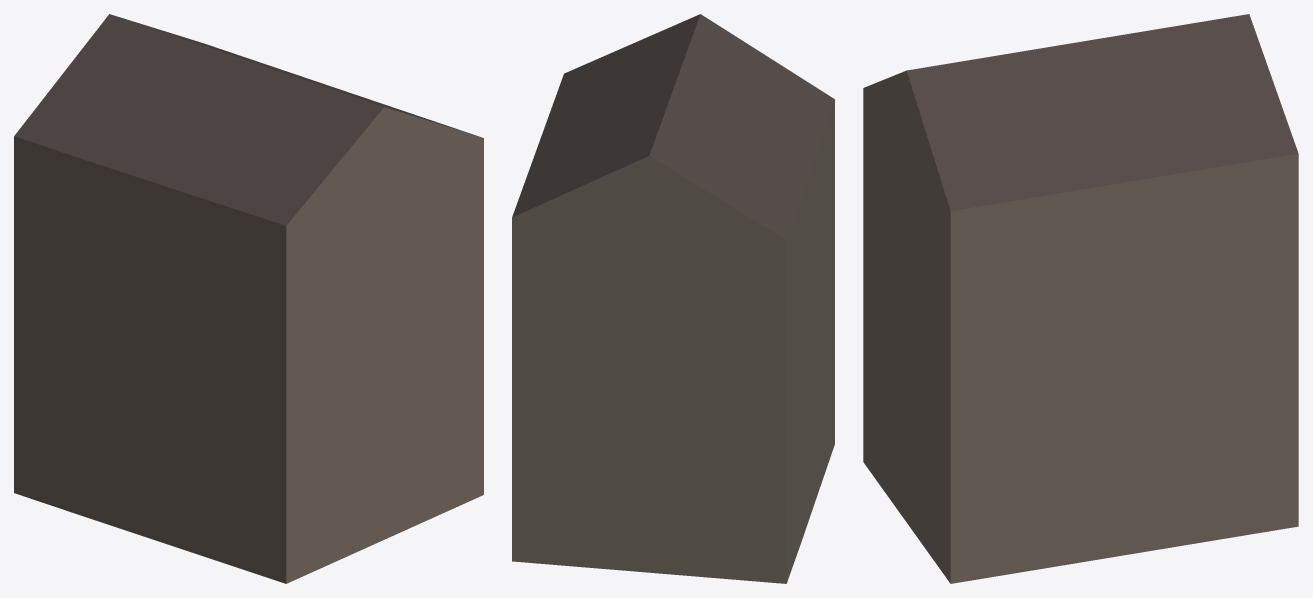
3 views of the same model, side by side, from view 1: azimuth 30°, elevation 25°; view 2: azimuth 150°, elevation 25°; view 3: azimuth 270°, elevation 25° (orthographic). The views are drawn at different scales.
Visible parts, largest first — view 1: HP-w783664816; view 2: HP-w783664816; view 3: HP-w783664816.
Part boxes in pixels (x1=…): HP-w783664816: x1=14, y1=14, x2=483, y2=583; HP-w783664816: x1=512, y1=14, x2=834, y2=583; HP-w783664816: x1=863, y1=14, x2=1298, y2=583.
Bounding box in the file's own units: 6.16 × 7.28 × 6.35.
